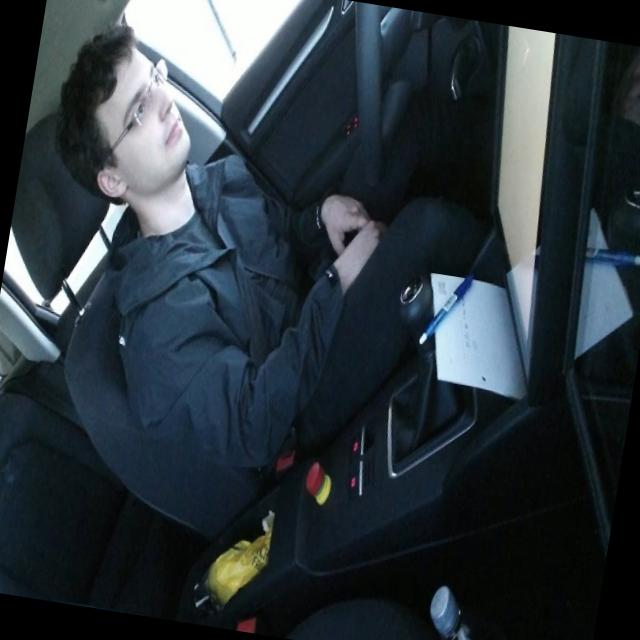pen: (417, 264, 475, 352)
